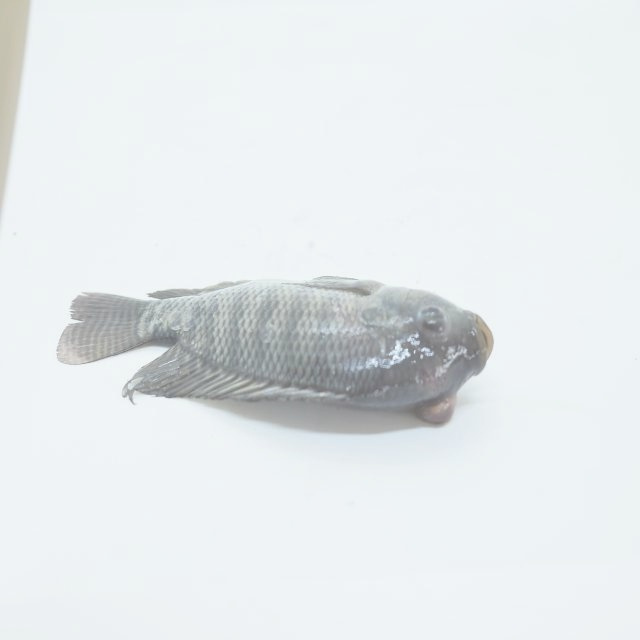streptococcus Disease: (57, 271, 500, 429)
